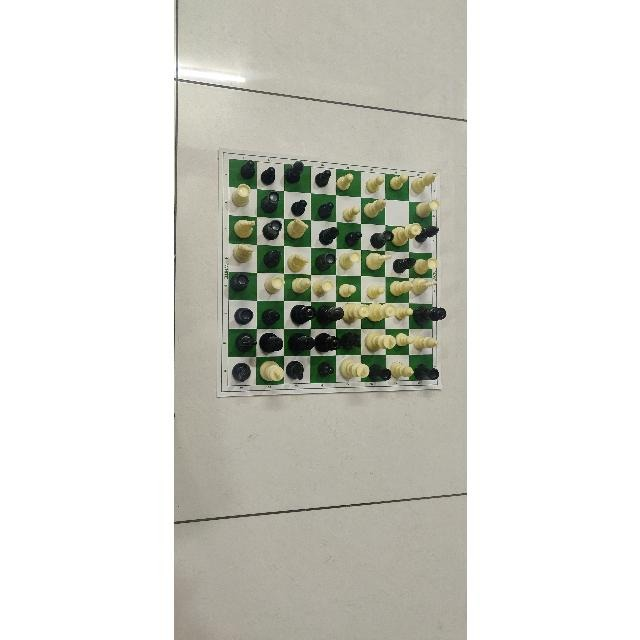black-bishop: (284, 160, 303, 183), (413, 226, 438, 242), (317, 226, 338, 245), (392, 257, 416, 273), (263, 249, 281, 268), (260, 309, 279, 325)
black-king: (315, 304, 342, 326), (288, 332, 314, 353), (258, 332, 282, 352)
black-knight: (234, 332, 255, 351), (230, 362, 249, 382), (340, 332, 360, 350), (285, 360, 303, 380)
black-pawn: (314, 169, 330, 187), (239, 159, 254, 178), (290, 198, 306, 215), (317, 201, 333, 218), (259, 167, 274, 185), (344, 231, 362, 246)
black-queen: (289, 304, 315, 324), (313, 333, 339, 352)
black-rook: (260, 189, 280, 213), (261, 219, 281, 241), (369, 229, 392, 248), (314, 252, 336, 271), (367, 364, 390, 382), (229, 272, 249, 292), (233, 307, 252, 325)
white-bishop: (410, 172, 435, 193), (363, 198, 385, 218), (412, 334, 438, 349), (389, 281, 413, 297), (389, 361, 413, 377), (290, 278, 310, 294)
white-king: (338, 358, 369, 379), (363, 331, 394, 351), (259, 360, 283, 381)
white-knight: (285, 218, 308, 239), (365, 252, 391, 270), (410, 277, 436, 295), (232, 219, 254, 239), (286, 253, 308, 272), (232, 243, 252, 263)
white-pawn: (335, 173, 353, 191), (341, 205, 359, 222), (365, 175, 383, 192), (388, 174, 407, 190), (338, 283, 356, 298), (365, 285, 384, 299), (393, 305, 412, 319), (395, 333, 413, 347), (316, 362, 333, 376)
white-queen: (391, 221, 422, 246), (412, 306, 446, 324), (341, 303, 369, 323), (367, 303, 395, 322)
white-rook: (414, 199, 439, 219), (230, 183, 249, 207), (413, 363, 439, 380), (337, 250, 360, 269), (414, 257, 438, 275), (311, 279, 333, 297), (264, 276, 284, 294)
